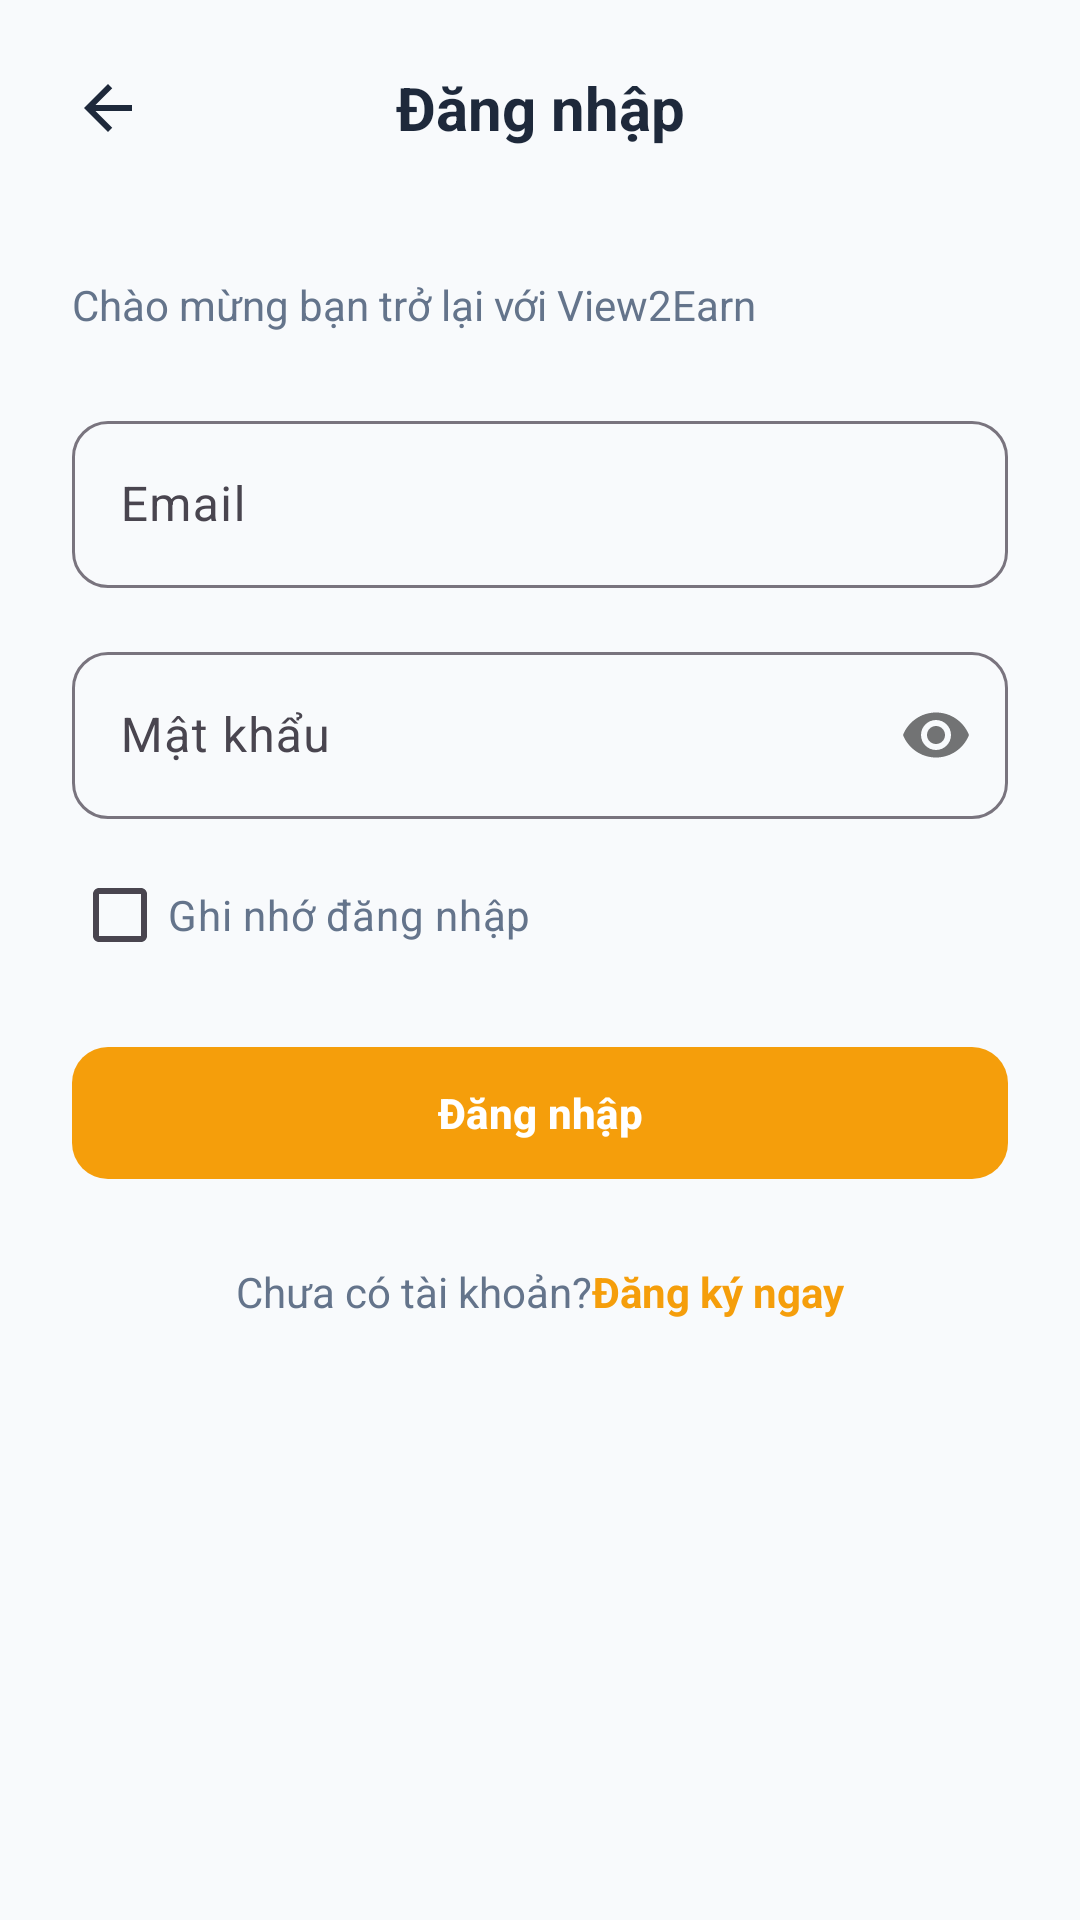

Named icons in this screenshot (1080px x 1920px) and their bounding boxes, bbox(x1, y1, x2, y2):
Quay lại: bbox(84, 84, 132, 132)
